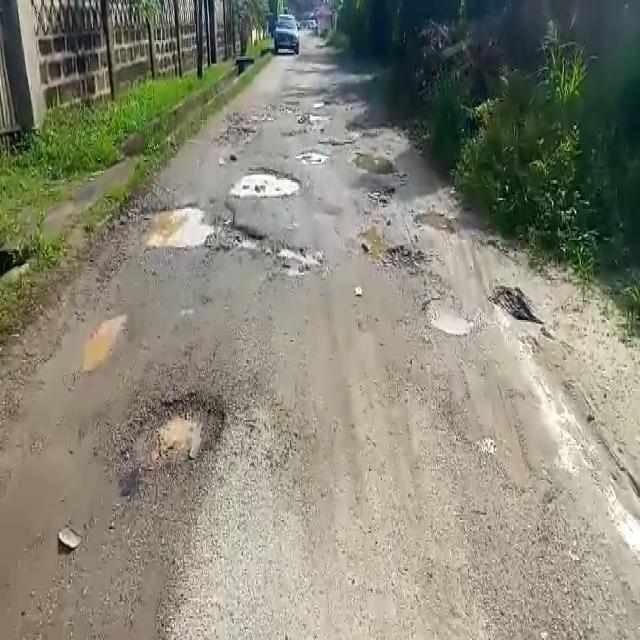pothole: (124, 389, 230, 491), (233, 217, 326, 281), (143, 206, 218, 250), (230, 164, 304, 198), (423, 290, 479, 333), (301, 149, 331, 162)
